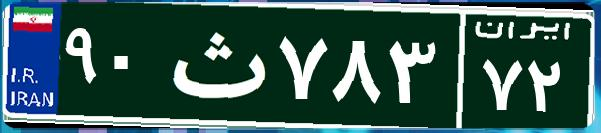0: (110, 28, 158, 105)
2: (525, 38, 570, 115)
3: (385, 28, 445, 110)
7: (273, 28, 330, 110), (475, 38, 525, 113)
8: (330, 28, 385, 110)
9: (57, 26, 110, 107)
ث: (158, 15, 273, 115)
